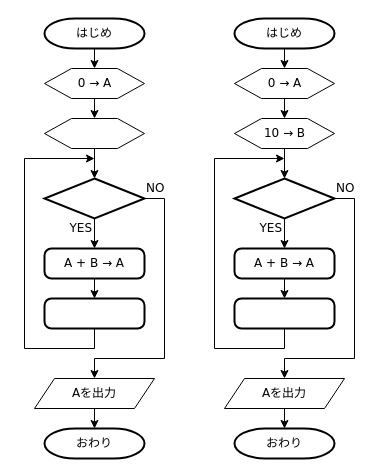
Image size: 392x476. Some labels were removed from this diagram. Each missing label, with the centre of its shape:
1 → B: (94,133)
B + 1 → B: (94,313)
B - 1 → B: (284,313)
B ≦ 10: (94,198)
B ≧ 0: (284,198)
